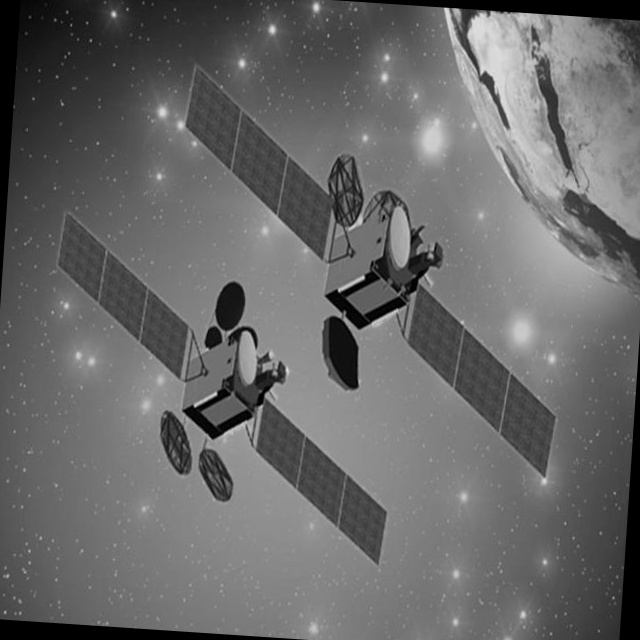satellite: (158, 57, 582, 500), (33, 196, 409, 578)
